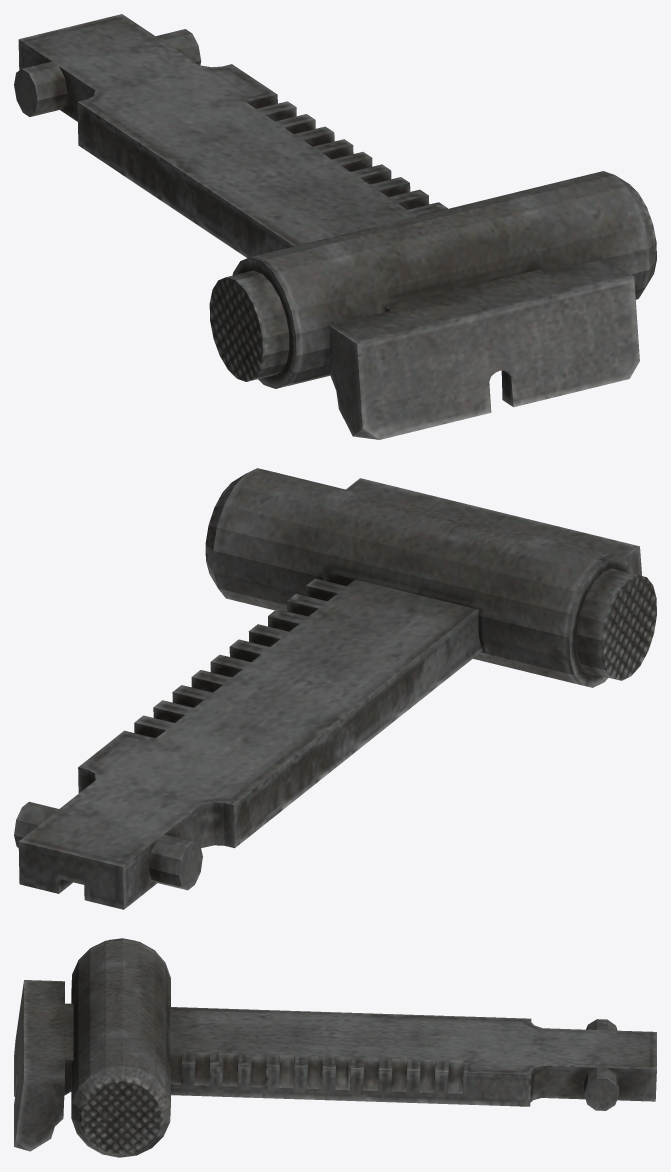
3 views of the same model, one above another, from view 1: azimuth 30°, elevation 25°; view 2: azimuth 150°, elevation 25°; view 3: azimuth 270°, elevation 25° (orthographic). The views are drawn at different scales.
Visible parts, largest first — view 1: TW_5ac72e475acfc400180ae6fe_PZ_Import; view 2: TW_5ac72e475acfc400180ae6fe_PZ_Import; view 3: TW_5ac72e475acfc400180ae6fe_PZ_Import.
Boxes of the visible parts, <box> form: TW_5ac72e475acfc400180ae6fe_PZ_Import: <box>14,14,656,439</box>; TW_5ac72e475acfc400180ae6fe_PZ_Import: <box>14,468,656,909</box>; TW_5ac72e475acfc400180ae6fe_PZ_Import: <box>14,938,656,1157</box>.
Bounding box in the file's own units: 0.0177 × 0.0336 × 0.00588.
1 material, 1 textured.
